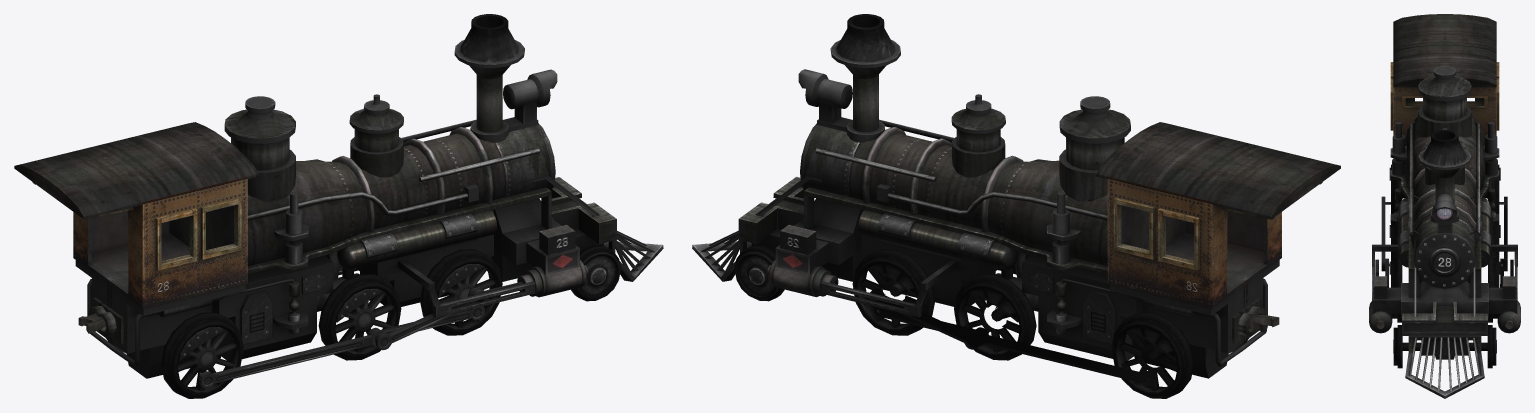
The model's file is train_loco.glb.
The picture shows the model from 3 angles, left to right: view 1: azimuth 30°, elevation 25°; view 2: azimuth 150°, elevation 25°; view 3: azimuth 270°, elevation 25°; orthographic projection. The views are drawn at different scales.
Parts seen in each view (by area): view 1: train_loco, wheel_2, wheel_0, wheel_3, wheel_1; view 2: train_loco, wheel_6, wheel_7, wheel_5, wheel_4; view 3: train_loco, wheel_3, wheel_5, wheel_1, wheel_4, wheel_7, wheel_0, wheel_6, wheel_2.
Part boxes in pixels (box(x1,y1,x2,y2)): train_loco: box(14, 14, 663, 388); wheel_2: box(161, 312, 243, 398); wheel_0: box(318, 274, 401, 360); wheel_3: box(420, 249, 502, 335); wheel_1: box(571, 245, 620, 301); train_loco: box(692, 14, 1340, 388); wheel_6: box(1111, 312, 1193, 398); wheel_7: box(954, 274, 1036, 360); wheel_5: box(852, 249, 935, 335); wheel_4: box(734, 245, 784, 301); train_loco: box(1369, 14, 1520, 398); wheel_3: box(1389, 254, 1402, 322); wheel_5: box(1488, 254, 1500, 322); wheel_1: box(1393, 325, 1402, 368); wheel_4: box(1487, 325, 1496, 368); wheel_7: box(1490, 217, 1500, 258); wheel_0: box(1389, 217, 1399, 258); wheel_6: box(1488, 164, 1500, 213); wheel_2: box(1389, 164, 1401, 213).
Bounding box in the file's own units: 9.6 × 4.12 × 2.76.
1 material, 1 textured.
